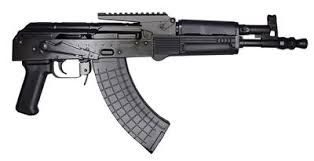gun: (9, 8, 309, 155)
